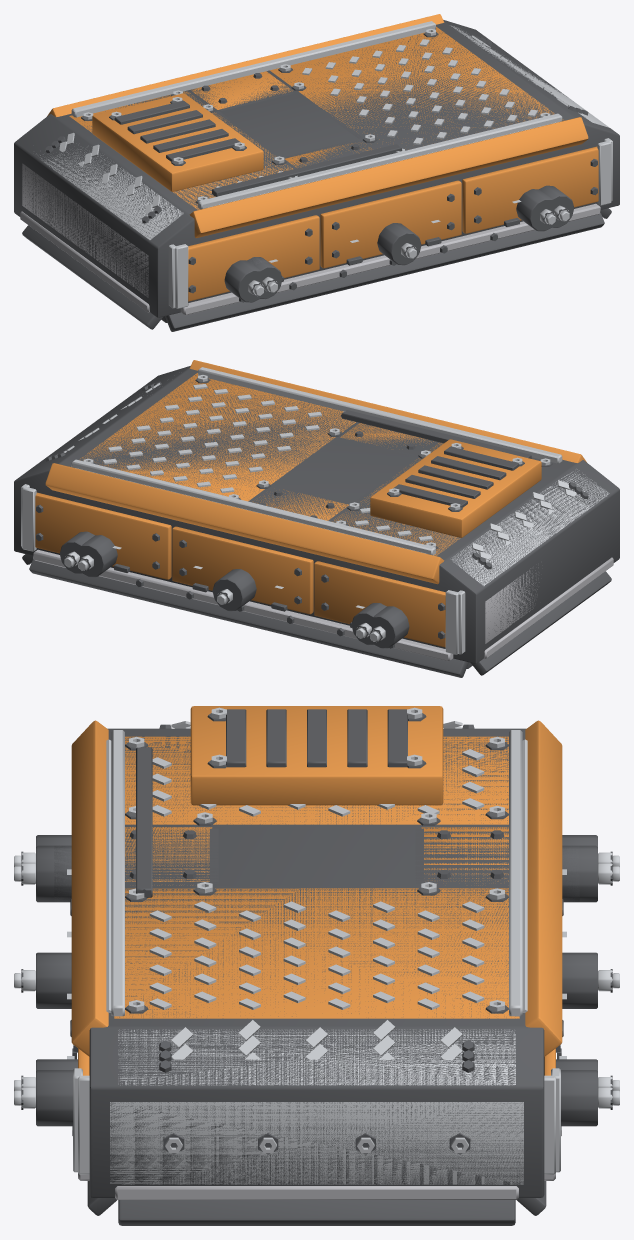
Rendered from apex.glb.
3 views of the same model, one above another, from view 1: azimuth 30°, elevation 25°; view 2: azimuth 150°, elevation 25°; view 3: azimuth 270°, elevation 25° (orthographic). The views are drawn at different scales.
Parts seen in each view (by area): view 1: body; view 2: body; view 3: body.
Part boxes in pixels (left/top/right/bottom): body: left=14, top=14, right=619, bottom=331; body: left=14, top=360, right=619, bottom=677; body: left=14, top=706, right=619, bottom=1225.
Size of the model in its own units: 1.01 by 0.2774 by 0.72.
